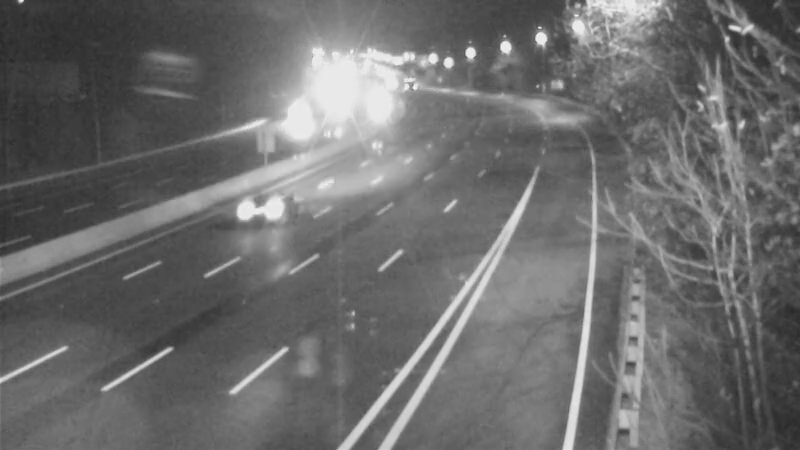vehicle: (232, 175, 312, 255), (384, 61, 434, 111), (282, 89, 332, 139), (348, 75, 398, 125)
